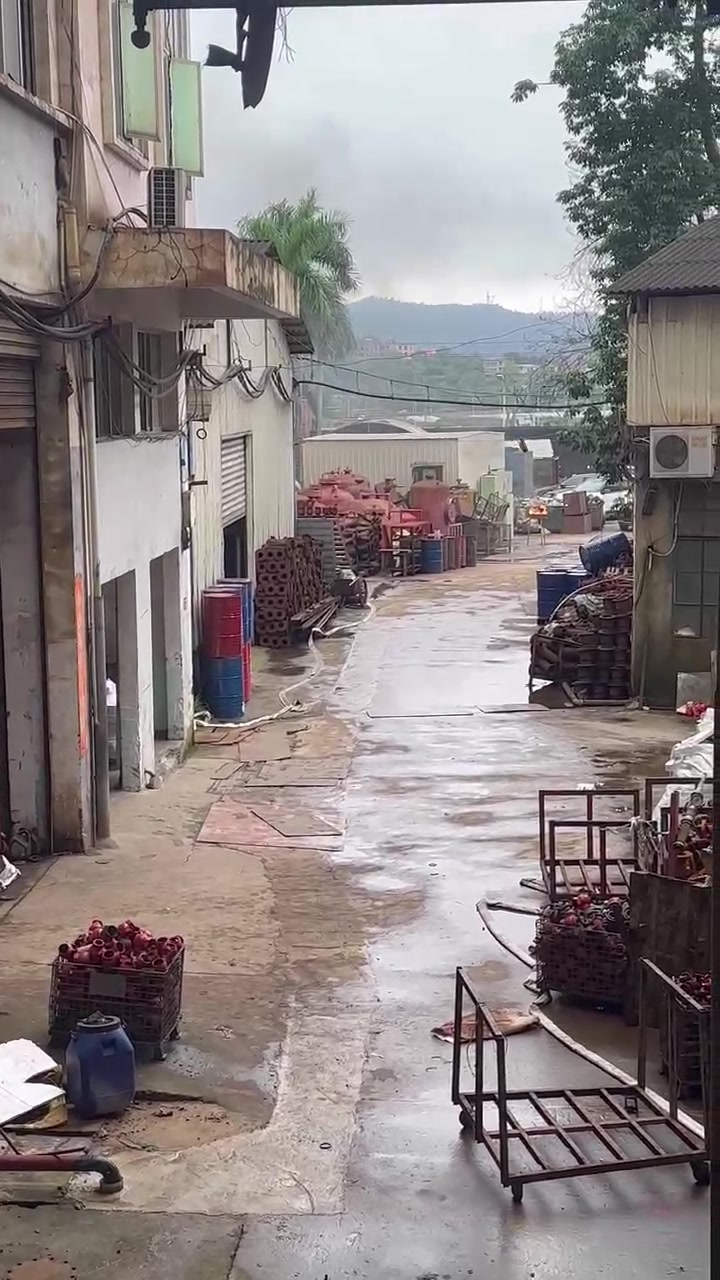fire: (529, 504, 546, 513)
